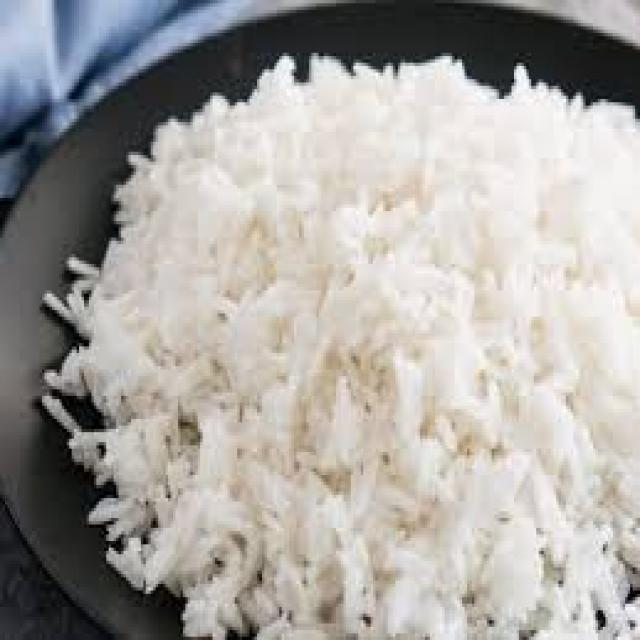White Rice: (84, 75, 640, 640)
